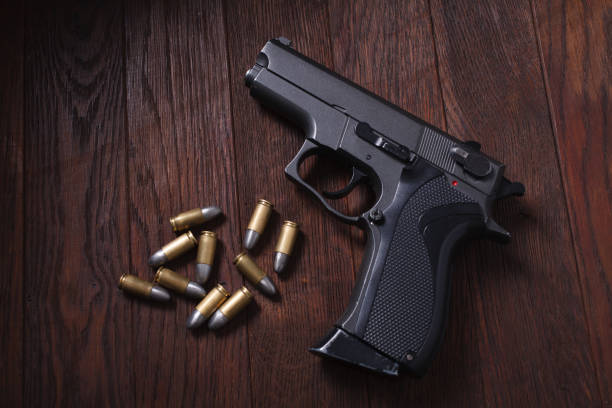gun: (242, 32, 524, 389)
